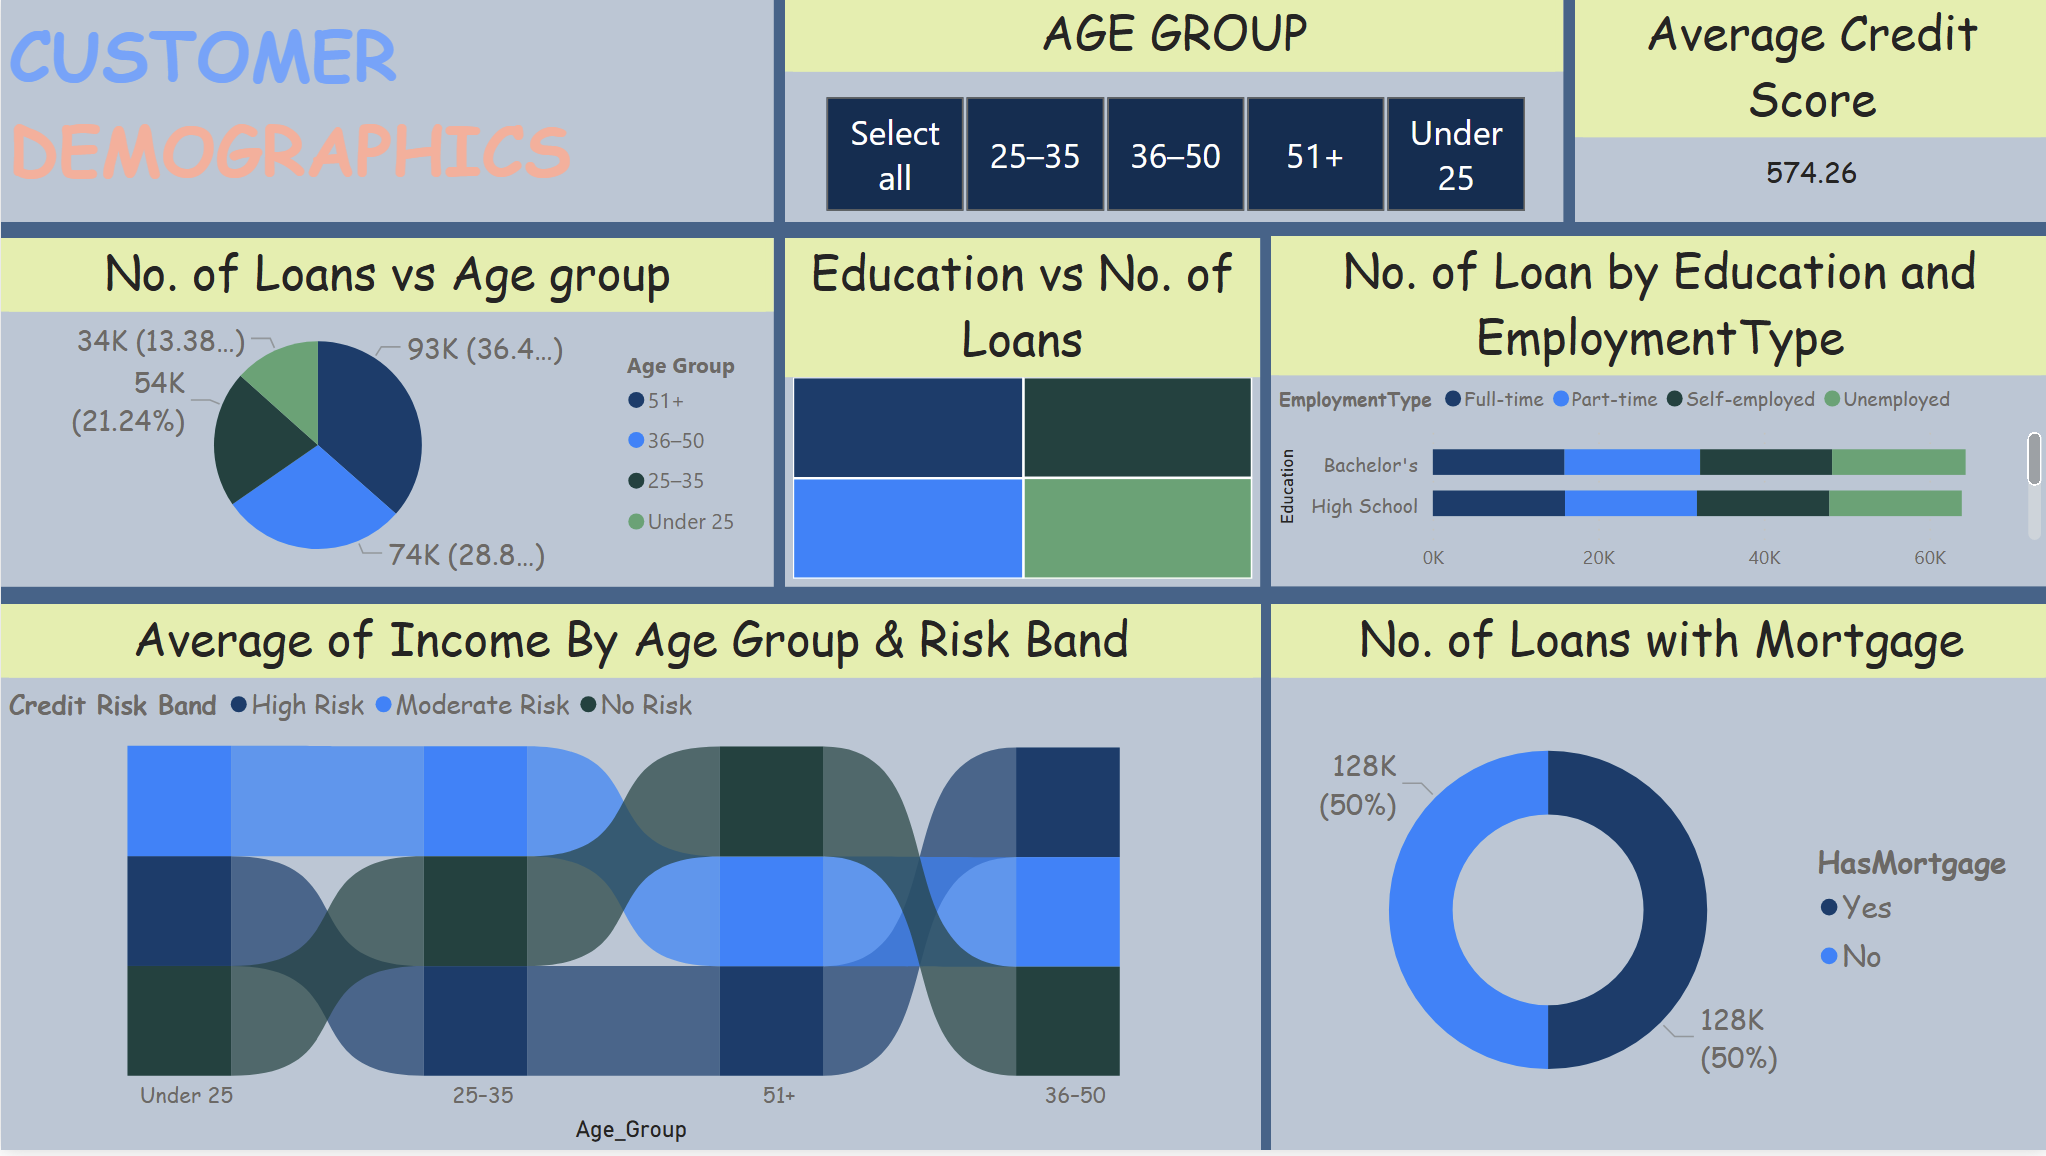

The dashboard page shown, as its layout file describes it:
{"tool":"powerbi","page":{"name":"Demographic_Breakdown","canvas":[1280,720],"ordinal":2},"visuals":[{"type":"card","title":"Average Credit Score","fields":{"Values":["KPI_Measures.Average_Credit_Score"]},"box":[983.9,0,296.1,139.8],"z":0},{"type":"treemap","title":"Education vs No. of  Loans","fields":{"Group":["Dim_Customer.Education"],"Values":["KPI_Measures.Loan_Count"]},"box":[490.5,149.5,296.8,217.9],"z":1000},{"type":"pieChart","title":"No. of Loans vs Age group","fields":{"Category":["Dim_Customer.Age_Group"],"Y":["KPI_Measures.Loan_Count"]},"box":[0,149.5,483.2,217.9],"z":2000},{"type":"barChart","title":"No. of Loan by Education and EmploymentType","fields":{"Y":["KPI_Measures.Loan_Count"],"Category":["Dim_Customer.Education"],"Series":["Dim_Customer.EmploymentType"]},"box":[793.7,149.1,486.3,219],"z":3000},{"type":"donutChart","title":"No. of Loans with Mortgage","fields":{"Category":["Dim_Customer.HasMortgage"],"Y":["KPI_Measures.Loan_Count"]},"box":[793.7,378.3,488.4,341.3],"z":4000},{"type":"ribbonChart","title":"Average of Income By Age Group & Risk Band","fields":{"Category":["Dim_Customer.Age_Group"],"Y":["Avg(Dim_Customer.Income)"],"Series":["Dim_Customer.Credit_Risk_Band"]},"box":[0,378.3,787.5,341.3],"z":5000},{"type":"textbox","box":[0,0,483.2,140],"z":6000},{"type":"image","box":[364.2,0,118.9,140],"z":7000},{"type":"slicer","title":"AGE GROUP","fields":{"Values":["Dim_Customer.Age_Group"]},"box":[490.4,0,486.3,139.8],"z":8000}]}

Visuals, with their boxes in screenshot pixels (x1, y1, x2, y2), scaled from the page's 1280x720 canvas onto the 2046x1156 screenshot:
"Average Credit Score" card: [1573,0,2045,224]
"Education vs No. of  Loans" treemap: [784,240,1258,590]
"No. of Loans vs Age group" pieChart: [0,240,772,590]
"No. of Loan by Education and EmploymentType" barChart: [1269,239,2045,591]
"No. of Loans with Mortgage" donutChart: [1269,607,2045,1155]
"Average of Income By Age Group & Risk Band" ribbonChart: [0,607,1259,1155]
textbox: [0,0,772,225]
image: [582,0,772,225]
"AGE GROUP" slicer: [784,0,1561,224]
